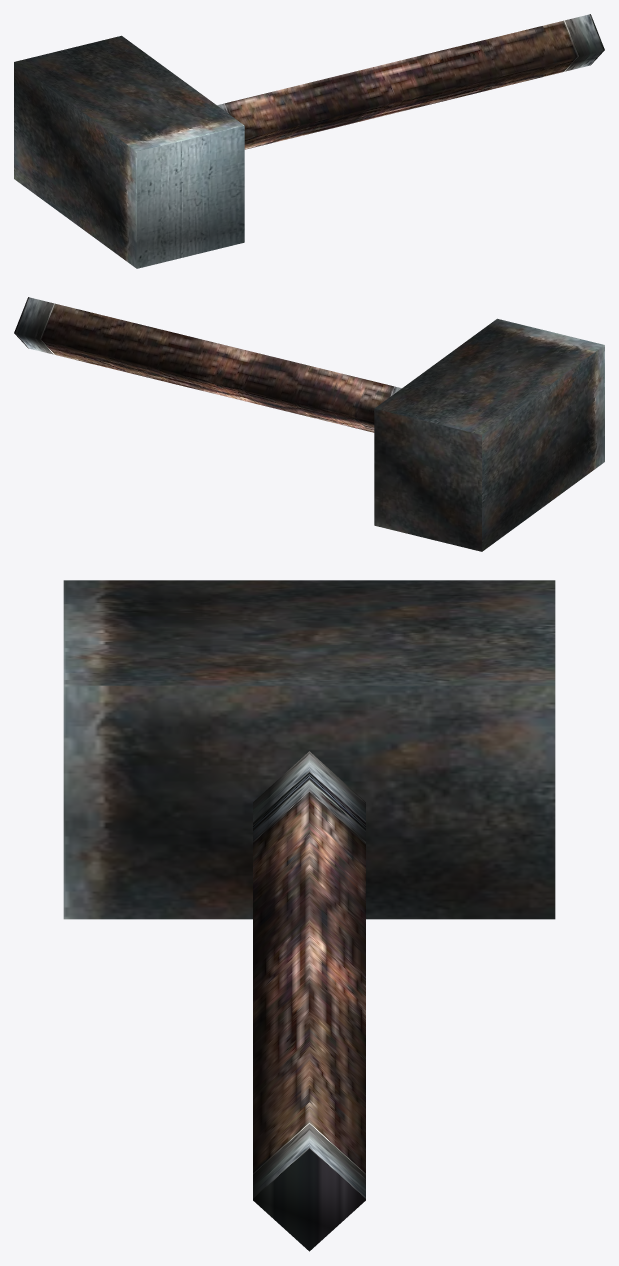
File: ITMW_010_1H_SLEDGEHAMMER_01.glb
3 views of the same model, one above another, from view 1: azimuth 30°, elevation 25°; view 2: azimuth 150°, elevation 25°; view 3: azimuth 270°, elevation 25° (orthographic). The views are drawn at different scales.
Visible parts, largest first — view 1: Mesh; view 2: Mesh; view 3: Mesh.
Boxes of the visible parts, box(x1,y1,x2,y2) form: Mesh: box(14, 14, 604, 268); Mesh: box(14, 297, 604, 551); Mesh: box(63, 580, 555, 1251).
Bounding box in the file's own units: 0.4842 × 0.105 × 0.2.
Materials: 2 (2 with a texture image).
